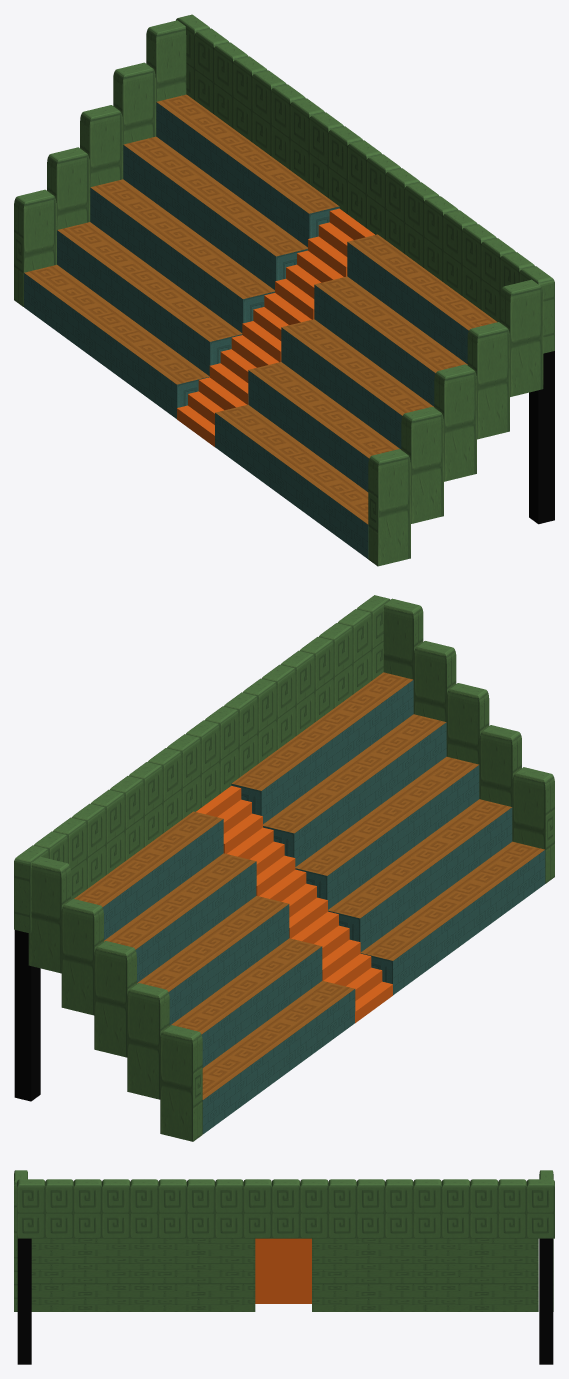
The model's file is grada1obj.obj.
The picture shows the model from 3 angles, top to bottom: view 1: azimuth 30°, elevation 25°; view 2: azimuth 150°, elevation 25°; view 3: azimuth 270°, elevation 25°; orthographic projection. The views are drawn at different scales.
Parts seen in each view (by area): view 1: atras.001_Material.010, atras.001_Material.009, atras.001_Material.003, atras.001_Material.013, atras.001_Material.004, atras.001_Material.015, atras.001_Material.012, atras.001_Material.007, atras.001_Material.014, atras.001_Material.016; view 2: atras.001_Material.003, atras.001_Material.004, atras.001_Material.010, atras.001_Material.012, atras.001_Material.009, atras.001_Material.015, atras.001_Material.013, atras.001_Material.007, atras.001_Material.014, atras.001_Material.017; view 3: atras.001_Material.015, atras.001_Material.008, atras.001_Material.006, atras.001_Material.014, atras.001_Material.007, atras.001_Material.017, atras.001_Material.016, atras.001_Material.013.
Part boxes in pixels (bbox=[...]): atras.001_Material.010: bbox=[24, 102, 339, 418]; atras.001_Material.009: bbox=[24, 94, 339, 384]; atras.001_Material.003: bbox=[215, 242, 468, 558]; atras.001_Material.013: bbox=[368, 279, 543, 566]; atras.001_Material.004: bbox=[215, 234, 497, 524]; atras.001_Material.015: bbox=[176, 14, 554, 319]; atras.001_Material.012: bbox=[14, 20, 186, 306]; atras.001_Material.007: bbox=[177, 208, 374, 446]; atras.001_Material.014: bbox=[186, 63, 554, 353]; atras.001_Material.016: bbox=[529, 351, 554, 524]; atras.001_Material.003: bbox=[231, 680, 545, 995]; atras.001_Material.004: bbox=[232, 672, 544, 960]; atras.001_Material.010: bbox=[102, 819, 355, 1134]; atras.001_Material.012: bbox=[28, 856, 202, 1141]; atras.001_Material.009: bbox=[74, 811, 354, 1099]; atras.001_Material.015: bbox=[14, 595, 390, 899]; atras.001_Material.013: bbox=[383, 598, 554, 883]; atras.001_Material.007: bbox=[196, 786, 392, 1023]; atras.001_Material.014: bbox=[14, 641, 383, 933]; atras.001_Material.017: bbox=[14, 930, 40, 1101]; atras.001_Material.015: bbox=[17, 1179, 554, 1213]; atras.001_Material.008: bbox=[312, 1238, 538, 1311]; atras.001_Material.006: bbox=[31, 1238, 255, 1311]; atras.001_Material.014: bbox=[17, 1213, 554, 1238]; atras.001_Material.007: bbox=[255, 1238, 311, 1303]; atras.001_Material.017: bbox=[539, 1238, 553, 1364]; atras.001_Material.016: bbox=[17, 1238, 31, 1364]; atras.001_Material.013: bbox=[14, 1170, 27, 1311].
Bounding box in the file's own units: 10.85 × 14.06 × 38.21.
